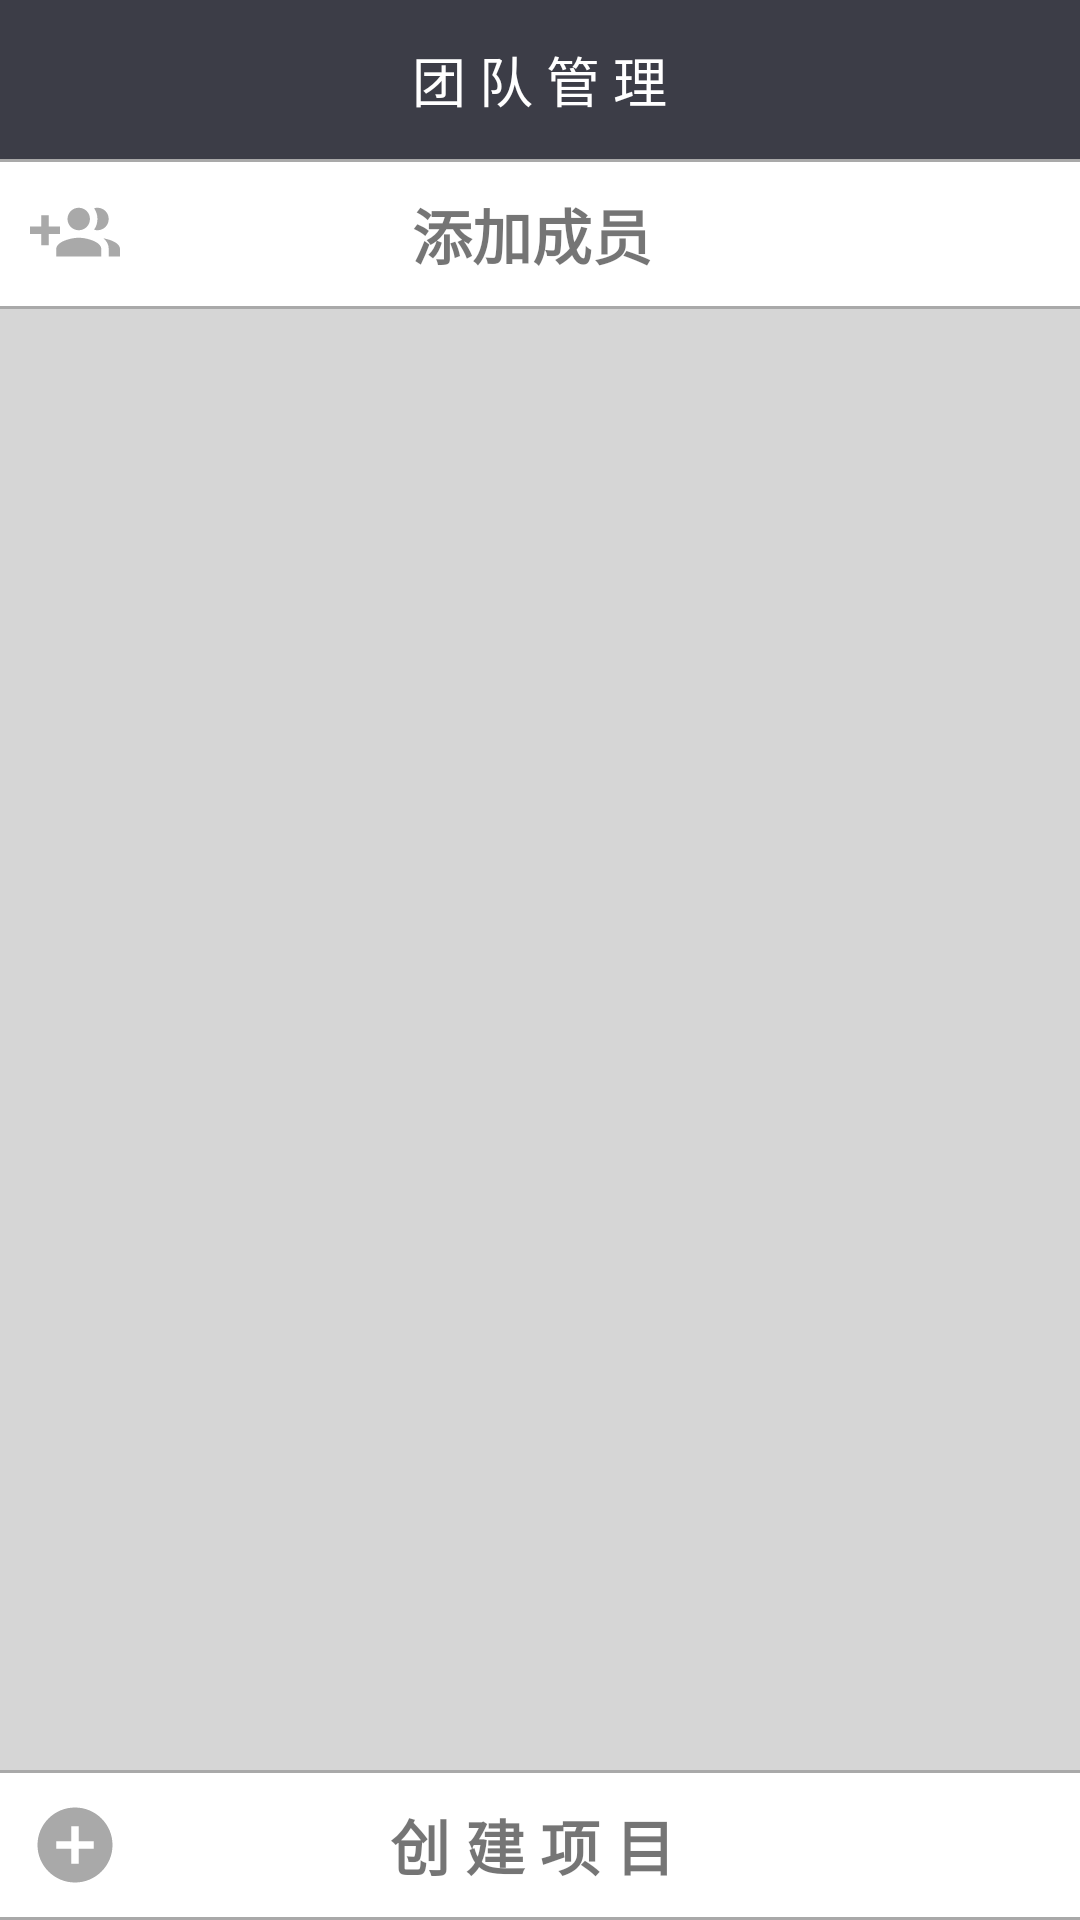

Where icons sit on this 1080×1920 app screen, as (x1, y1, x2, y2):
add circle: (37, 1807, 113, 1883)
group add: (30, 208, 120, 257)
